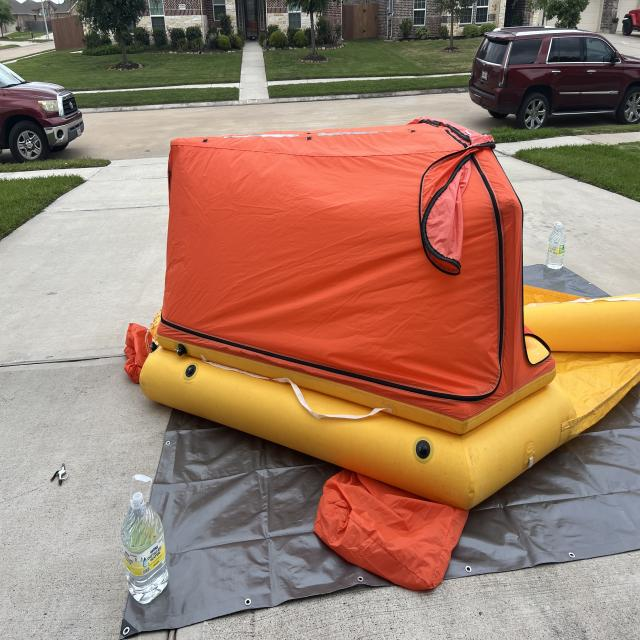Multi-person_life_raft: (124, 114, 639, 590)
